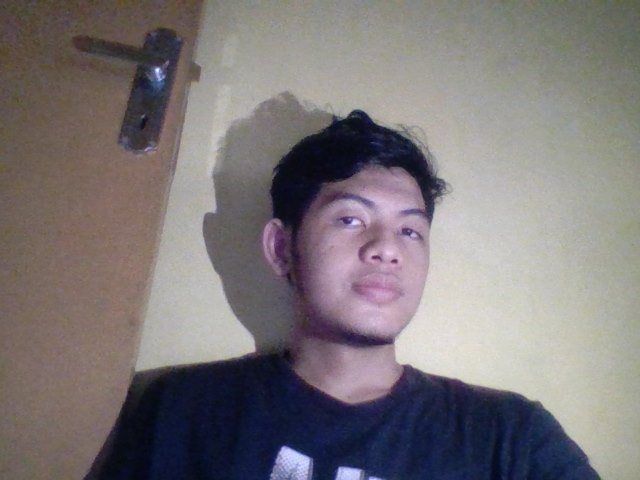NoMask: (289, 246, 452, 336)
